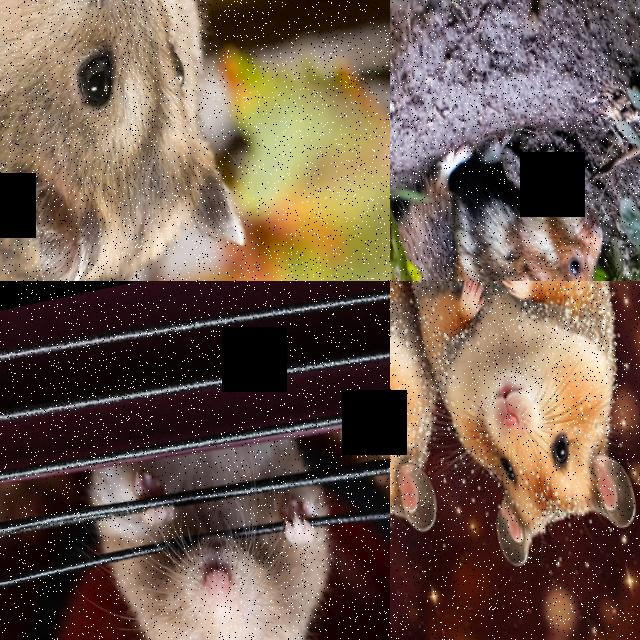hamster: (0, 0, 267, 281), (390, 281, 640, 577), (72, 429, 387, 640), (390, 120, 631, 281), (390, 281, 472, 568)
